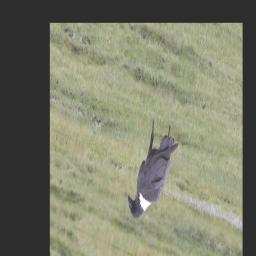Crow: (125, 113, 181, 234)
